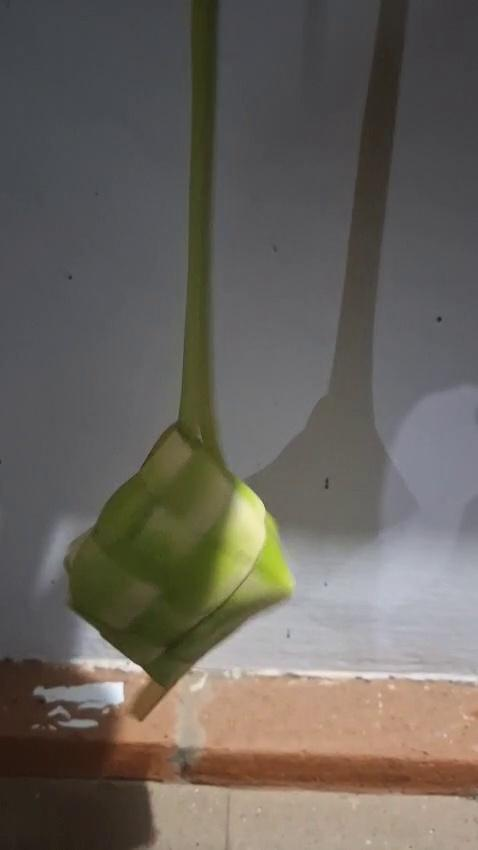Tipat Nasi: (62, 412, 298, 724)
